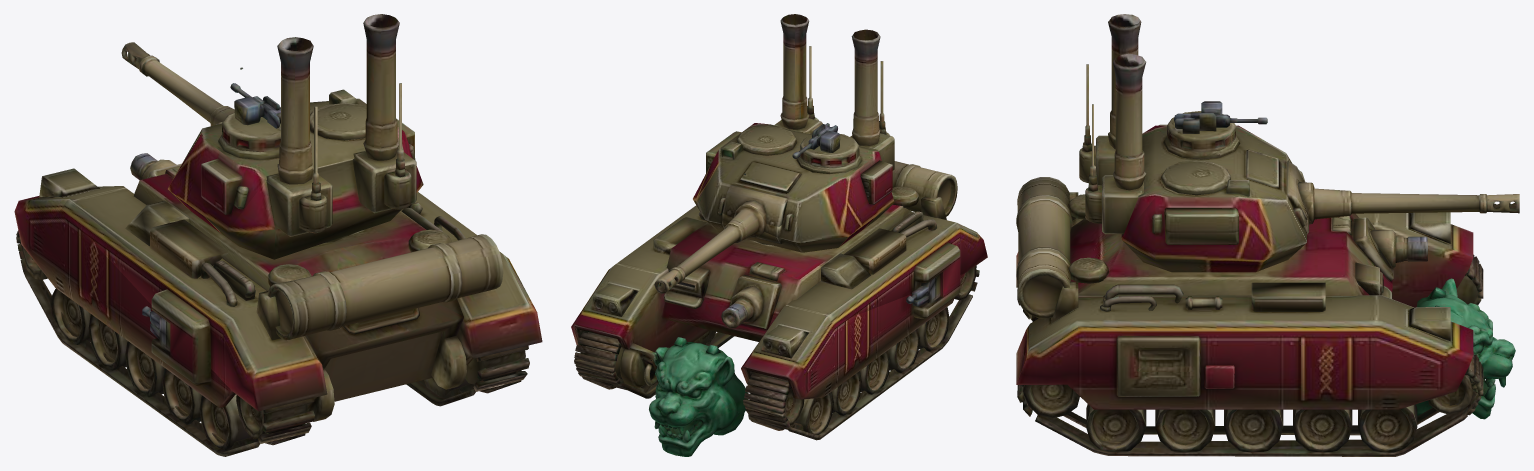
File: amber_tank.glb
3 renders of one model, left to right at view 1: azimuth 30°, elevation 25°; view 2: azimuth 150°, elevation 25°; view 3: azimuth 270°, elevation 25°, orthographic. The views are drawn at different scales.
Visible parts, largest first — view 1: Body, Turret, Trim, Barrel; view 2: Body, Turret, Trim, Barrel; view 3: Body, Turret, Barrel, Trim.
Part boxes in pixels (x1,y1,x2,y2): Body: [14, 14, 542, 456]; Turret: [168, 83, 423, 232]; Trim: [28, 199, 230, 389]; Barrel: [121, 42, 234, 125]; Body: [571, 14, 987, 456]; Turret: [693, 22, 894, 242]; Trim: [795, 47, 964, 394]; Barrel: [654, 206, 777, 293]; Body: [1016, 14, 1515, 456]; Turret: [1122, 58, 1312, 259]; Barrel: [1303, 184, 1519, 231]; Trim: [1083, 320, 1381, 330].
Bounding box in the file's own units: 5.25 × 6.61 × 8.1.
Materials: 2 (2 with a texture image).
